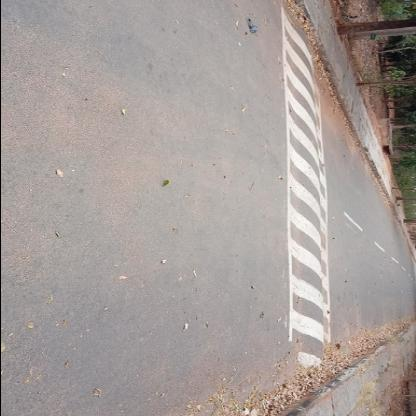speed-bumps: (265, 6, 339, 376)
